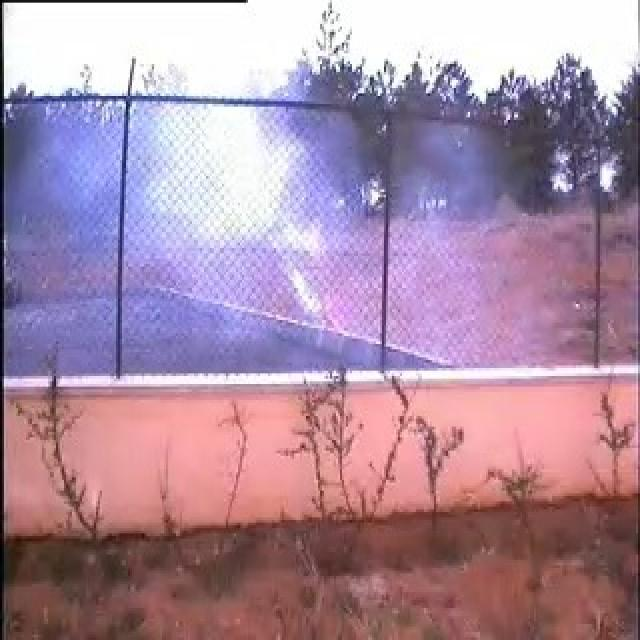smoke: (32, 104, 357, 366)
